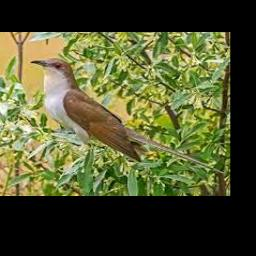Cuckoo: (29, 58, 224, 174)
